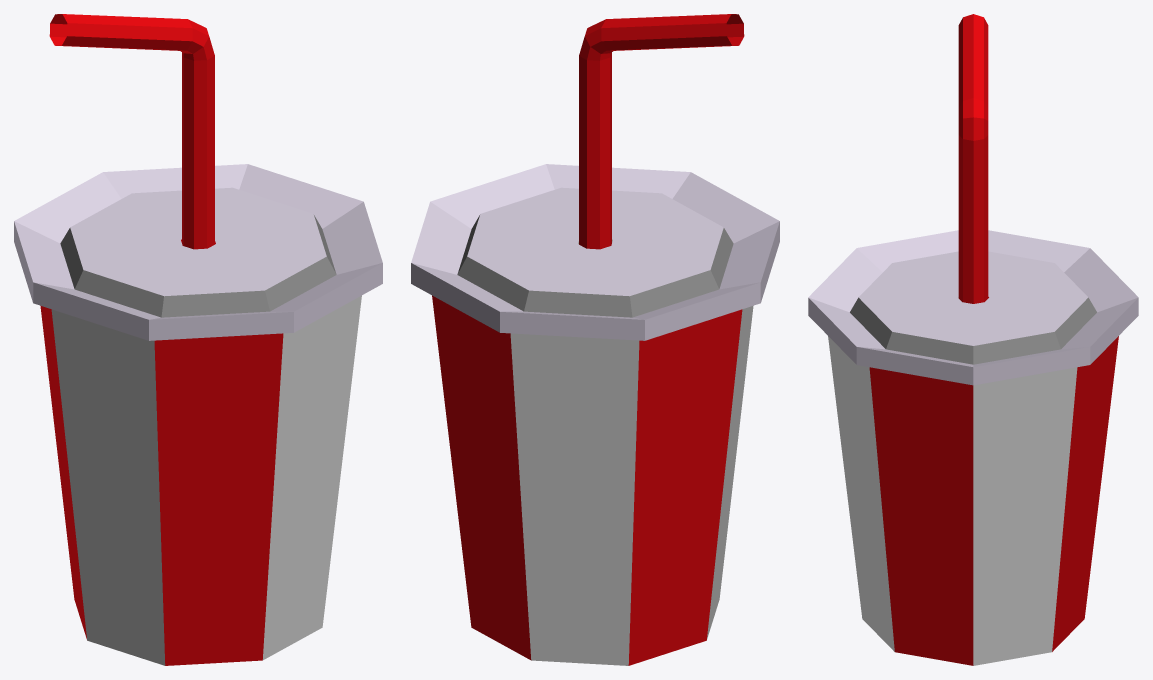
The model's file is soda-cup.fbx.
3 views of the same model, side by side, from view 1: azimuth 30°, elevation 25°; view 2: azimuth 150°, elevation 25°; view 3: azimuth 270°, elevation 25° (orthographic). The views are drawn at different scales.
Parts seen in each view (by area): view 1: Cup, Straw; view 2: Cup, Straw; view 3: Cup, Straw.
Part boxes in pixels (x1,y1,x2,y2): Cup: (14,164,382,665); Straw: (49,14,214,249); Cup: (411,164,779,665); Straw: (579,14,744,249); Cup: (808,230,1138,665); Straw: (958,14,988,303).
Bounding box in the file's own units: 12.62 × 23.08 × 12.62.
